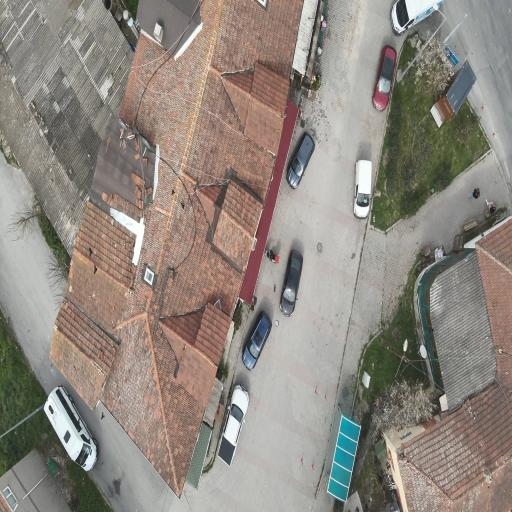car: (44, 386, 98, 471), (218, 384, 249, 465), (390, 0, 443, 37), (242, 311, 271, 369), (287, 132, 315, 188), (372, 45, 396, 110), (280, 250, 303, 315), (354, 160, 372, 219)
person: (486, 199, 496, 213), (470, 187, 479, 198)
